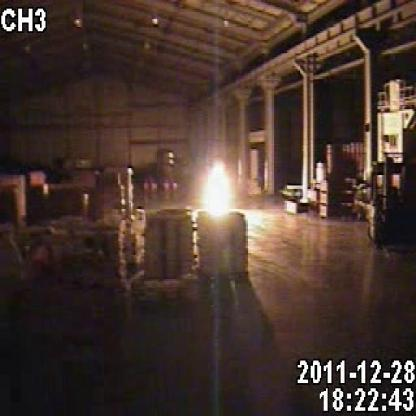fire: (174, 147, 264, 243)
